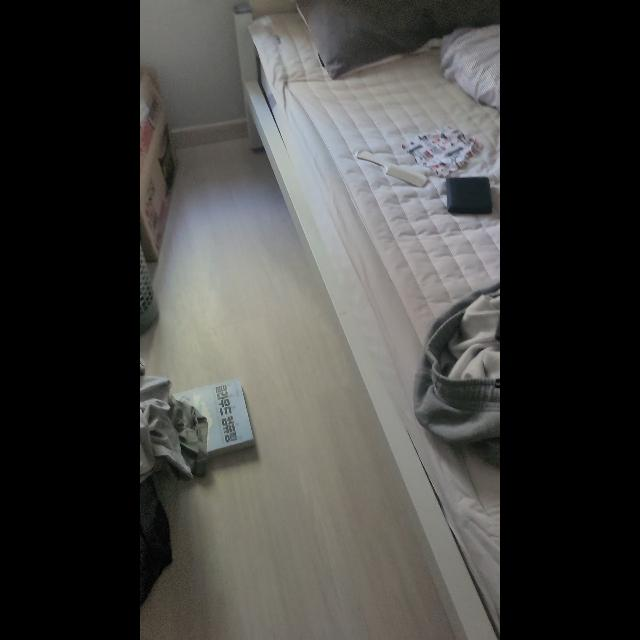COMB: (354, 150, 426, 188)
Glasses cleaning cloth: (401, 124, 481, 178)
WALLET: (446, 175, 492, 212)
